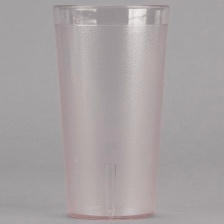glass: (51, 3, 172, 222)
